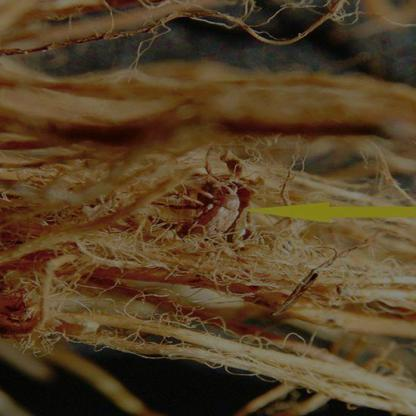rice-bug: (176, 171, 248, 240)
